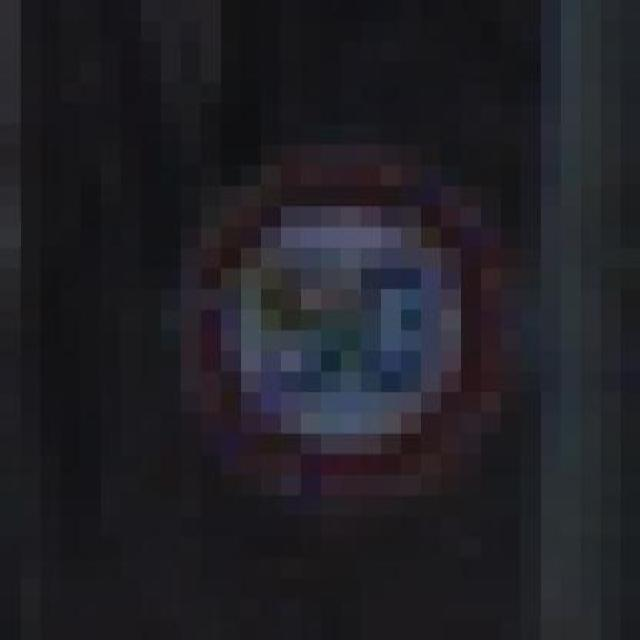forb_speed_over_50: (202, 176, 489, 469)
